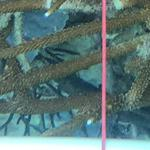alive: (5, 3, 147, 146)
